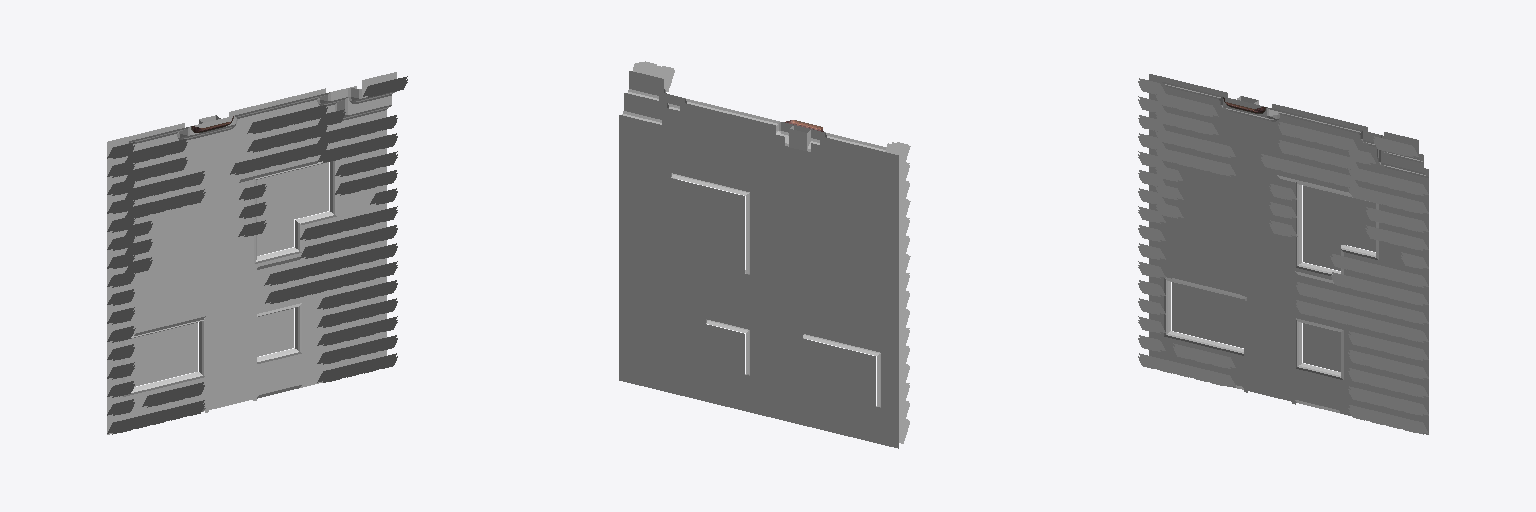
3 renders of one model, left to right at view 1: azimuth 30°, elevation 25°; view 2: azimuth 150°, elevation 25°; view 3: azimuth 330°, elevation 25°, orthographic.
Parts seen in each view (by area): view 1: map; view 2: map; view 3: map.
Boxes of the visible parts, box(x1,y1,x2,y2) form: map: box(107, 72, 407, 434); map: box(619, 61, 910, 448); map: box(1138, 74, 1428, 434).
Bounding box in the file's own units: 32.5 × 33.12 × 5.64.
15 materials, 1 textured.